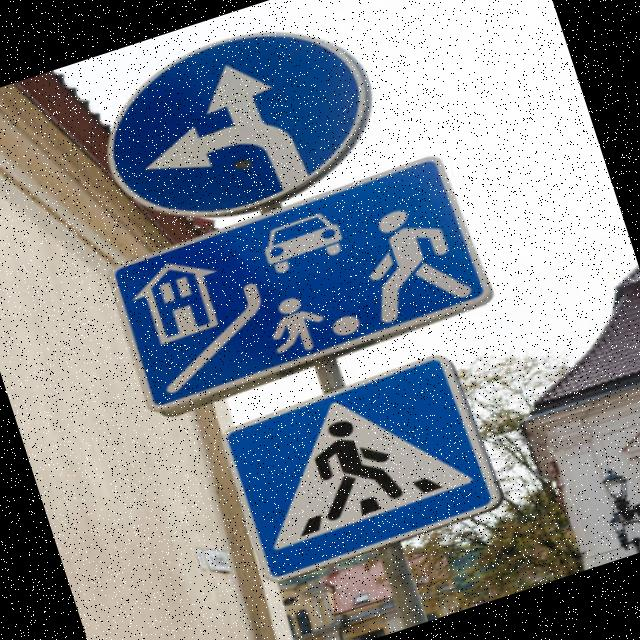crosswalk: (203, 339, 516, 600)
